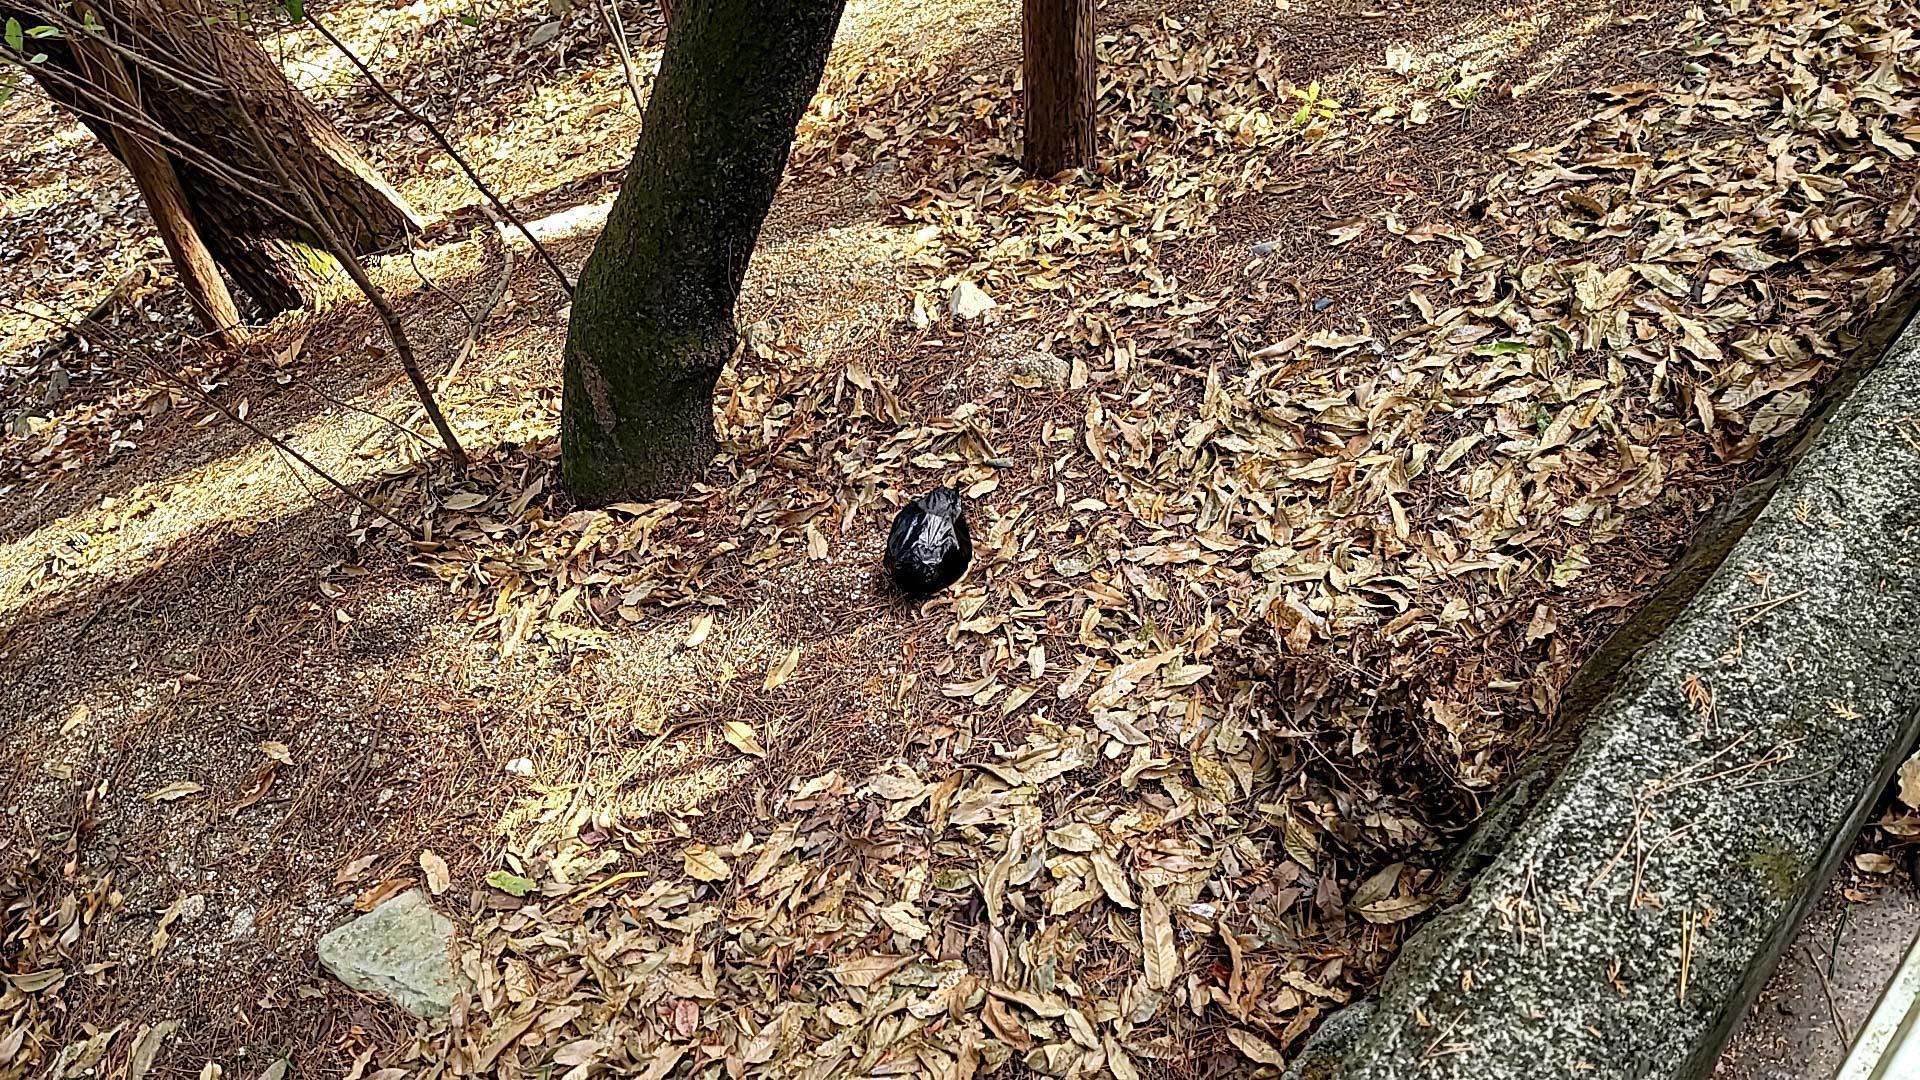black_bag: (878, 483, 975, 599)
